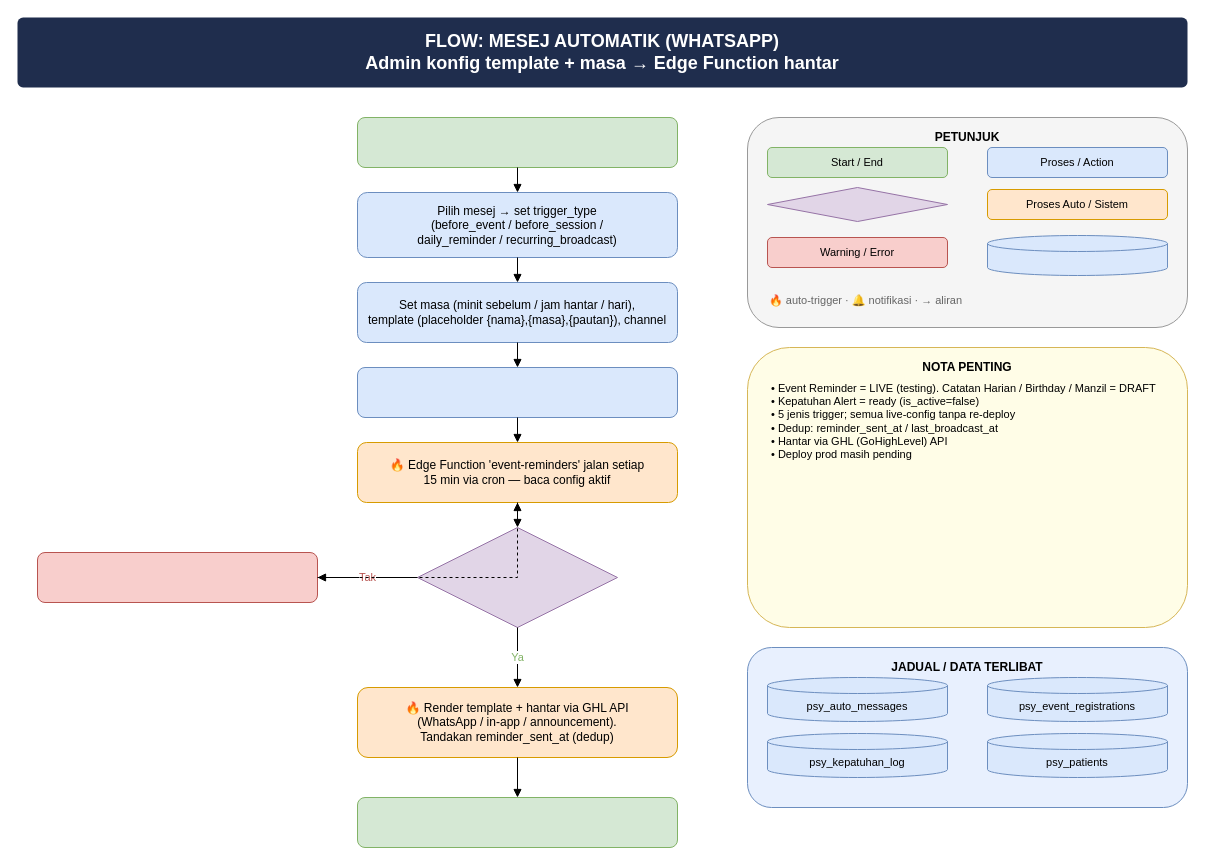
The diagram is 1205 pixels wide and 865 high, and some of its shapes have lost their labels. The shapes that lost their labels are listed below. From the top down, each one's centre as x and y in pixels, then its label:
At [517,142]: "START Admin buka auto-mesej.html".
At [857,204]: "Keputusan / Decision".
At [1077,255]: "Database".
At [517,392]: "Toggle is_active → Simpan ke psy_auto_messages".
At [177,577]: "Langkau (tunggu kitaran seterusnya)".
At [517,577]: "Tetingkap masa padan (±10 min)?".
At [517,822]: "Mesej dihantar mengikut jadual".
